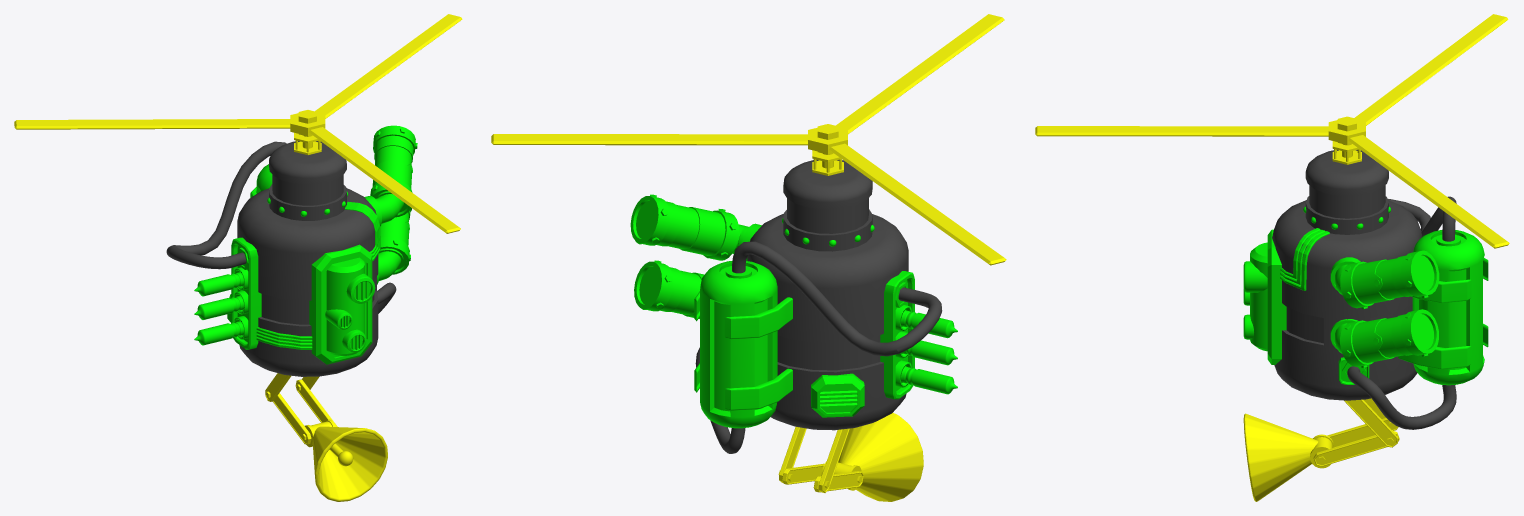
Rendered from SM_Steam_Drone.fbx.
3 views of the same model, side by side, from view 1: azimuth 30°, elevation 25°; view 2: azimuth 150°, elevation 25°; view 3: azimuth 270°, elevation 25° (orthographic). The views are drawn at different scales.
Visible parts, largest first — view 1: curve3 (×2), pCylinder92, pSphere13; view 2: curve3 (×2), pCylinder92, pSphere13; view 3: curve3 (×2), pCylinder92, pSphere13.
Part boxes in pixels (<box>): curve3 (×2): <box>166,125,417,376</box>; pCylinder92: <box>14,14,462,233</box>; pSphere13: <box>265,373,387,501</box>; curve3 (×2): <box>630,160,957,453</box>; pCylinder92: <box>491,14,1006,265</box>; pSphere13: <box>778,413,923,501</box>; curve3 (×2): <box>1243,150,1488,429</box>; pCylinder92: <box>1035,14,1509,248</box>; pSphere13: <box>1243,398,1399,501</box>.
Bounding box in the file's own units: 168 × 128 × 145.
